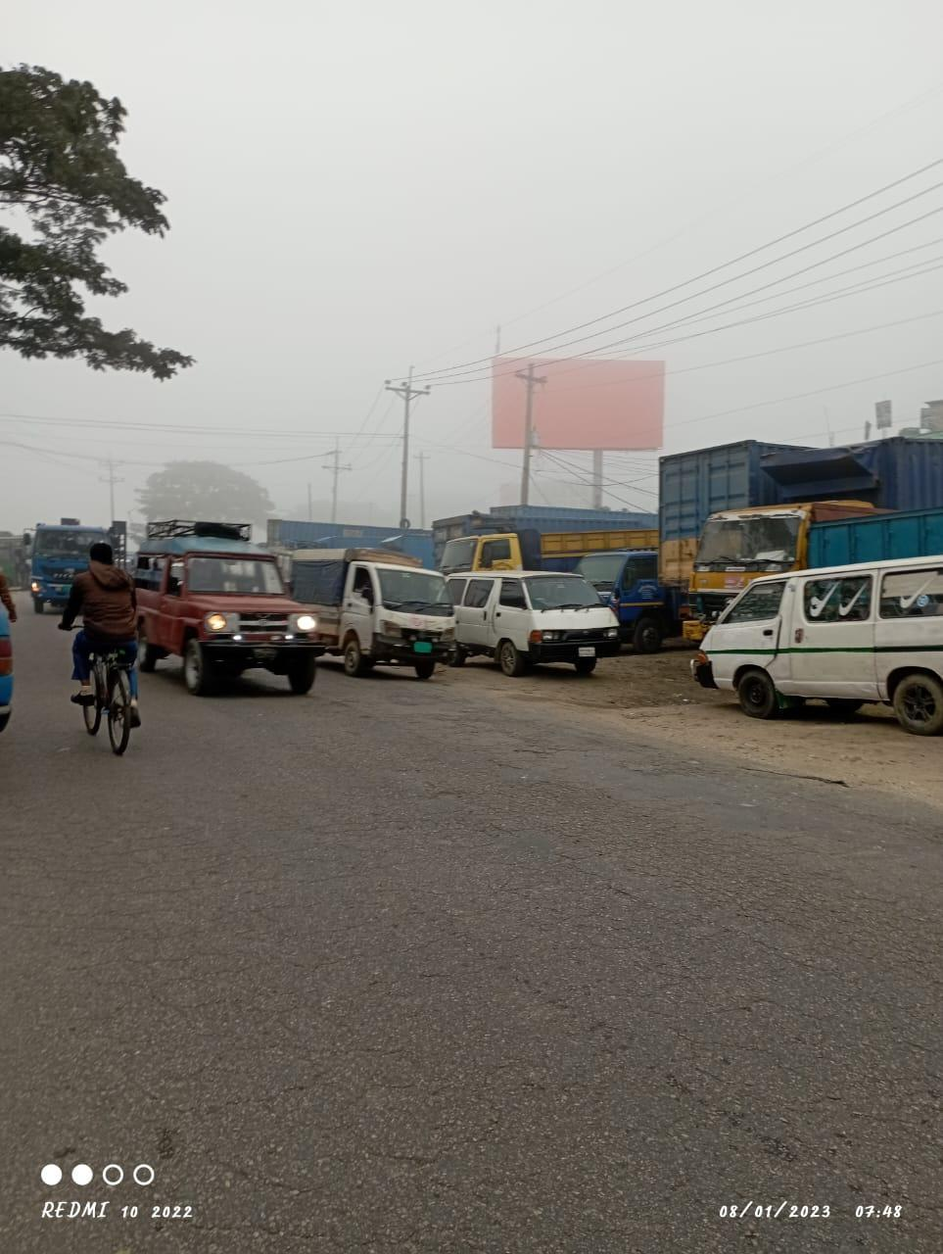Car: (684, 555, 943, 737), (129, 506, 327, 705), (284, 537, 463, 690), (445, 559, 627, 687)
Truck: (18, 512, 119, 615)
